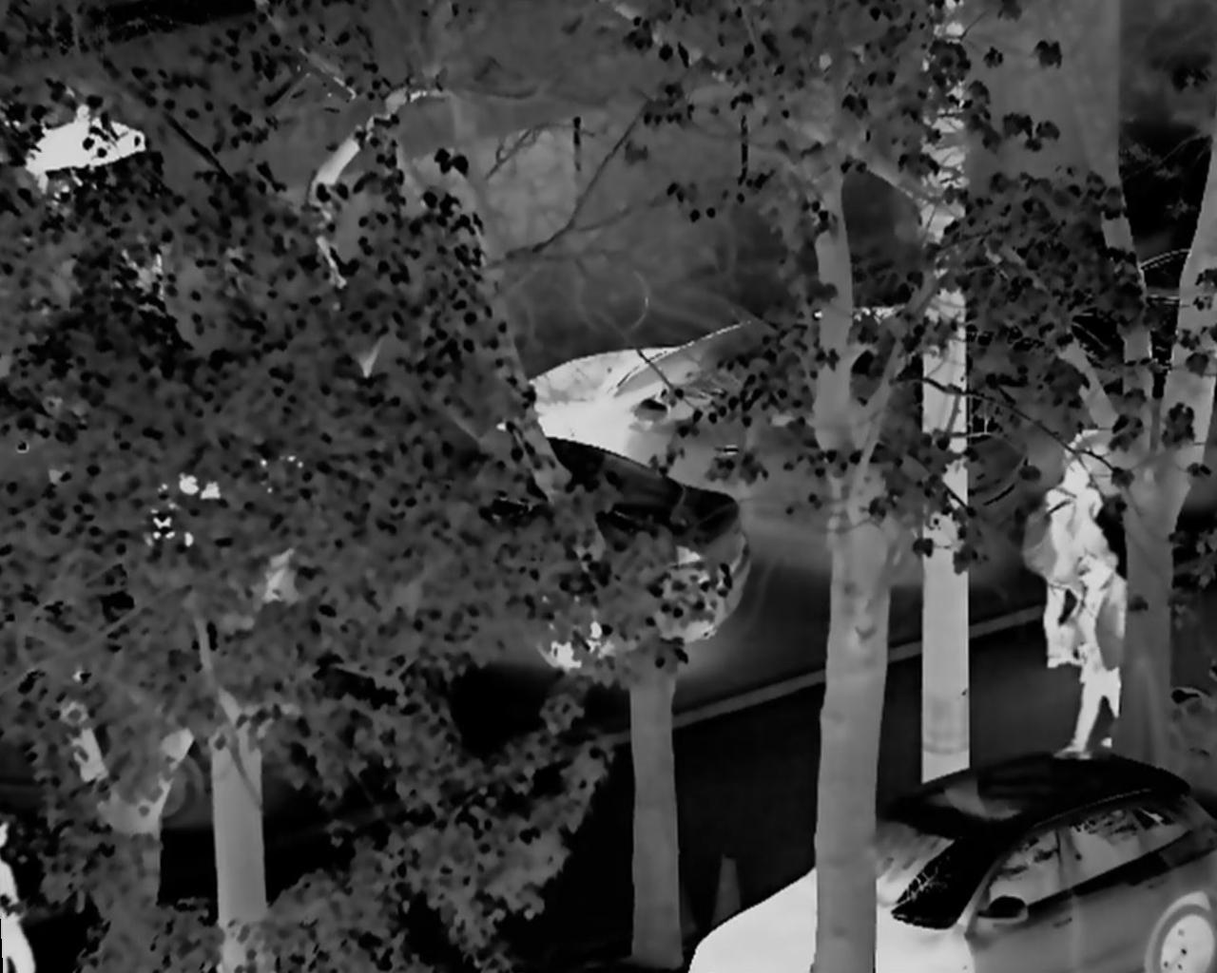person: (1059, 532, 1133, 764), (1033, 454, 1079, 671)
